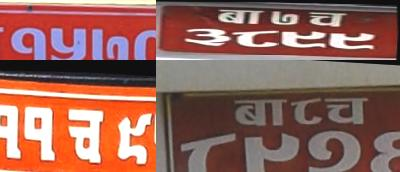0: (130, 20, 156, 60)
1: (21, 101, 66, 161), (6, 20, 51, 60), (0, 99, 23, 159)
2: (303, 123, 369, 172)
3: (181, 27, 233, 48)
5: (46, 19, 89, 60)
6: (367, 122, 400, 172)
7: (88, 20, 133, 60), (268, 10, 304, 26)
8: (174, 125, 242, 172), (229, 27, 283, 49), (288, 93, 325, 125)
9: (240, 125, 306, 172), (109, 105, 155, 164), (326, 29, 386, 50), (278, 28, 332, 49)
ba: (229, 91, 290, 128), (214, 8, 267, 26)
cha: (65, 102, 107, 163), (322, 89, 369, 125), (306, 10, 351, 27)
